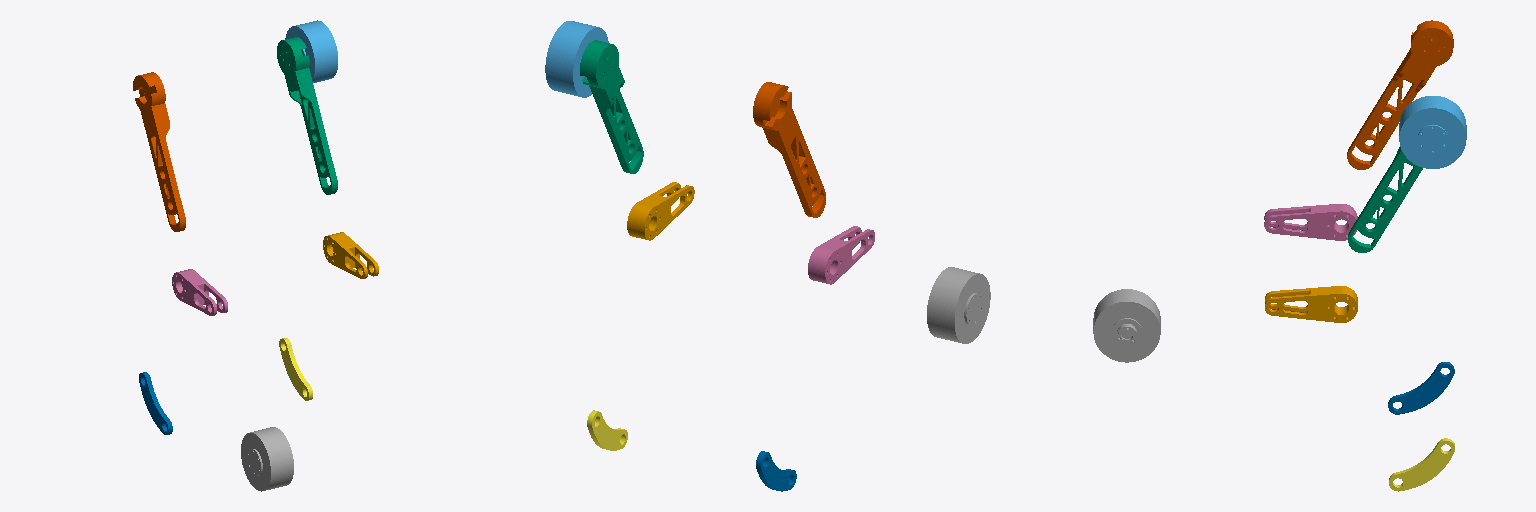
The robot description file, URDF, robot "robot":
<?xml version='1.0' encoding='utf-8'?>
<robot name="robot">
    <mujoco>
        <compiler fusestatic="false" discardvisual="false" coordinate="local"/>
    </mujoco>
    <link name="link1_left">
        <inertial>
            <origin xyz="-0.018166978005611494 0.009921954681198938 -0.007149621055701481" rpy="2.0293072715139053e-17 0.0 0.0" />
            <mass value="0.2530518137091047" />
            <inertia ixx="4.7092960291313796e-05" iyy="0.0001590563441833895" izz="0.0001312538770806334" ixy="-4.5976179750004954e-07" iyz="-2.2128909720007715e-07" ixz="-3.894611756705873e-05" />
        </inertial>
        <visual name="link1_left_visual">
            <origin xyz="-0.03799665238660035 0.016816099706863312 -0.019742583505363936" rpy="-1.3010609451868982 -0.004304181638839388 -1.5681871598450279" />
            <geometry>
                <mesh filename="meshes/link1_left.stl" scale="0.001 0.001 0.001" />
            </geometry>
        </visual>
        <collision name="link1_left_collision">
            <origin xyz="-0.03799665238660035 0.016816099706863312 -0.019742583505363936" rpy="-1.3010609451868982 -0.004304181638839388 -1.5681871598450279" />
            <geometry>
                <mesh filename="meshes/link1_left.stl" scale="0.001 0.001 0.001" />
            </geometry>
        </collision>
    </link>
    <link name="wheel_left">
        <inertial>
            <origin xyz="-3.5842304993884965e-05 -0.015710212283790864 6.155662402040462e-05" rpy="2.0293072715139053e-17 0.0 0.0" />
            <mass value="0.9552209288691303" />
            <inertia ixx="0.00035911198734573865" iyy="0.0005321469347699705" izz="0.00035911376545033624" ixy="3.342991071499493e-07" iyz="-6.067540478833786e-07" ixz="-2.073078692217901e-09" />
        </inertial>
        <visual name="wheel_left_visual">
            <origin xyz="-8.3490717625061e-05 -0.03199959955642795 0.0001377320956118222" rpy="-0.005646058401270238 -0.7038819930408806 0.001044882631630851" />
            <geometry>
                <mesh filename="meshes/wheel_left.stl" scale="0.001 0.001 0.001" />
            </geometry>
        </visual>
        <collision name="wheel_left_collision">
            <origin xyz="-8.3490717625061e-05 -0.03199959955642795 0.0001377320956118222" rpy="-0.005646058401270238 -0.7038819930408806 0.001044882631630851" />
            <geometry>
                <mesh filename="meshes/wheel_left.stl" scale="0.001 0.001 0.001" />
            </geometry>
        </collision>
    </link>
    <link name="link2_left">
        <inertial>
            <origin xyz="0.04156411800840451 -0.007919803008513426 -0.03523436842240086" rpy="2.0293072715139053e-17 0.0 0.0" />
            <mass value="0.4808903080599057" />
            <inertia ixx="0.0005813670109405013" iyy="0.001333985910925515" izz="0.0007806436908168075" ixy="5.115281541123732e-05" iyz="-4.3681165751808353e-05" ixz="0.0006058128581630687" />
        </inertial>
        <visual name="link2_left_visual">
            <origin xyz="0.022013728614496388 0.0019769643873805264 -0.01870151620916417" rpy="-2.274686183703241 -0.004304181638839166 -1.5681871598450277" />
            <geometry>
                <mesh filename="meshes/link2_left.stl" scale="0.001 0.001 0.001" />
            </geometry>
        </visual>
        <collision name="link2_left_collision">
            <origin xyz="0.022013728614496388 0.0019769643873805264 -0.01870151620916417" rpy="-2.274686183703241 -0.004304181638839166 -1.5681871598450277" />
            <geometry>
                <mesh filename="meshes/link2_left.stl" scale="0.001 0.001 0.001" />
            </geometry>
        </collision>
    </link>
    <link name="link3_left">
        <inertial>
            <origin xyz="-0.028929831568332693 0.002856949438744447 -0.015707674968183517" rpy="2.0293072715139053e-17 0.0 0.0" />
            <mass value="0.07190706335416745" />
            <inertia ixx="1.487289748382378e-05" iyy="3.745017673987366e-05" izz="2.3010227830165065e-05" ixy="-1.225043524880735e-07" iyz="-1.0070620777699231e-07" ixz="-1.4774876887563922e-05" />
        </inertial>
        <visual name="link3_left_visual">
            <origin xyz="-0.025868010232697847 0.005847703903597115 -0.01972056132874364" rpy="2.2218156118697014 -0.00430418163883961 -1.5681871598450277" />
            <geometry>
                <mesh filename="meshes/link3_left.stl" scale="0.001 0.001 0.001" />
            </geometry>
        </visual>
        <collision name="link3_left_collision">
            <origin xyz="-0.025868010232697847 0.005847703903597115 -0.01972056132874364" rpy="2.2218156118697014 -0.00430418163883961 -1.5681871598450277" />
            <geometry>
                <mesh filename="meshes/link3_left.stl" scale="0.001 0.001 0.001" />
            </geometry>
        </collision>
    </link>
    <link name="link3_right">
        <inertial>
            <origin xyz="-0.028914178443092808 0.003142983198542506 0.01568184630847984" rpy="2.0293072715139053e-17 0.0 0.0" />
            <mass value="0.07190706335416698" />
            <inertia ixx="1.4872897483824647e-05" iyy="3.745017673987453e-05" izz="2.3010227830165383e-05" ixy="1.225043524881846e-07" iyz="-1.0070620777656126e-07" ixz="1.477487688756381e-05" />
        </inertial>
        <visual name="link3_right_visual">
            <origin xyz="-0.02583670226853351 0.006152152732781158 0.019668907658946147" rpy="-2.221815611869705 -0.004304181638839166 -1.5734054937447661" />
            <geometry>
                <mesh filename="meshes/link3_right.stl" scale="0.001 0.001 0.001" />
            </geometry>
        </visual>
        <collision name="link3_right_collision">
            <origin xyz="-0.02583670226853351 0.006152152732781158 0.019668907658946147" rpy="-2.221815611869705 -0.004304181638839166 -1.5734054937447661" />
            <geometry>
                <mesh filename="meshes/link3_right.stl" scale="0.001 0.001 0.001" />
            </geometry>
        </collision>
    </link>
    <link name="link2_right">
        <inertial>
            <origin xyz="0.04152300875381114 -0.007832981928876387 0.03530217321363132" rpy="2.0293072715139053e-17 0.0 0.0" />
            <mass value="0.4808903080599056" />
            <inertia ixx="0.000581894147094239" iyy="0.0013341970106261723" izz="0.0007799054549624059" ixy="4.98634102224782e-05" iyz="4.2075539445148205e-05" ixz="-0.0006060238980722324" />
        </inertial>
        <visual name="link2_right_visual">
            <origin xyz="0.022024157654718515 0.002022983578999149 0.01868430083568917" rpy="2.274686183703243 -0.0043041816388385 -1.5734054937447655" />
            <geometry>
                <mesh filename="meshes/link2_right.stl" scale="0.001 0.001 0.001" />
            </geometry>
        </visual>
        <collision name="link2_right_collision">
            <origin xyz="0.022024157654718515 0.002022983578999149 0.01868430083568917" rpy="2.274686183703243 -0.0043041816388385 -1.5734054937447655" />
            <geometry>
                <mesh filename="meshes/link2_right.stl" scale="0.001 0.001 0.001" />
            </geometry>
        </collision>
    </link>
    <link name="link1_right">
        <inertial>
            <origin xyz="-0.018114786914125727 -0.010077793976110775 -0.007063534024669487" rpy="2.0293072715139053e-17 0.0 0.0" />
            <mass value="0.2530518137091047" />
            <inertia ixx="4.709296037909948e-05" iyy="0.00015905634400377797" izz="0.00013125387717246358" ixy="-4.597786192580124e-07" iyz="-2.212997640160324e-07" ixz="-3.894611746682164e-05" />
        </inertial>
        <visual name="link1_right_visual">
            <origin xyz="-0.0379079333463781 -0.017183468259516187 -0.01959623813188882" rpy="-1.840531708402895 0.00430418163883961 1.573405493744765" />
            <geometry>
                <mesh filename="meshes/link1_right.stl" scale="0.001 0.001 0.001" />
            </geometry>
        </visual>
        <collision name="link1_right_collision">
            <origin xyz="-0.0379079333463781 -0.017183468259516187 -0.01959623813188882" rpy="-1.840531708402895 0.00430418163883961 1.573405493744765" />
            <geometry>
                <mesh filename="meshes/link1_right.stl" scale="0.001 0.001 0.001" />
            </geometry>
        </collision>
    </link>
    <link name="wheel_right">
        <inertial>
            <origin xyz="4.482355501615132e-05 0.015710191616803027 -6.0650294060256014e-05" rpy="2.0293072715139053e-17 0.0 0.0" />
            <mass value="0.9552209288691303" />
            <inertia ixx="0.0003591126767838841" iyy="0.0005321460462703528" izz="0.00035911396451180494" ixy="5.386532777630331e-07" iyz="-5.860910146674934e-07" ixz="-1.0539742177975384e-09" />
        </inertial>
        <visual name="wheel_right_visual">
            <origin xyz="8.34967118459673e-05 0.031999598400864734 -0.00013773337880224724" rpy="0.004910832616104921 -0.5023207052999299 3.136619098362705" />
            <geometry>
                <mesh filename="meshes/wheel_right.stl" scale="0.001 0.001 0.001" />
            </geometry>
        </visual>
        <collision name="wheel_right_collision">
            <origin xyz="8.34967118459673e-05 0.031999598400864734 -0.00013773337880224724" rpy="0.004910832616104921 -0.5023207052999299 3.136619098362705" />
            <geometry>
                <mesh filename="meshes/wheel_right.stl" scale="0.001 0.001 0.001" />
            </geometry>
        </collision>
    </link>
    <link name="base_link">
        <inertial>
            <origin xyz="-0.0005926311409948765 0.004346570833989687 0.005442047538105136" rpy="1.5707963267948966 0.0 0.0" />
            <mass value="6.714653948788012" />
            <inertia ixx="0.01298130240354172" iyy="0.020395237426541035" izz="0.0265293151499411" ixy="-2.1739871986128482e-05" iyz="0.0004309073120633129" ixz="3.2819258244552775e-05" />
        </inertial>
        <visual name="base_link_visual">
            <origin xyz="0.0 0.0 0.0" rpy="1.5707963267948966 0.0 0.0" />
            <geometry>
                <mesh filename="meshes/base_link.stl" scale="0.001 0.001 0.001" />
            </geometry>
        </visual>
        <collision name="base_link_collision">
            <origin xyz="0.0 0.0 0.0" rpy="1.5707963267948966 0.0 0.0" />
            <geometry>
                <mesh filename="meshes/base_link.stl" scale="0.001 0.001 0.001" />
            </geometry>
        </collision>
    </link>
    <joint name="base_link_旋转-1" type="revolute">
        <origin xyz="-0.09400000200669573 0.011523592215170648 0.005415741165141359" rpy="0.004283460434355124 0.00794719707671776 -1.5734055519724581" />
        <parent link="base_link" />
        <child link="link1_right" />
        <axis xyz="0.002609 -0.9999869999999998 0.004304000000000139" />
        <limit lower="0.261799" upper="1.658063" effort="1000000" velocity="1000000" />
    </joint>
    <joint name="base_link_旋转-2" type="revolute">
        <origin xyz="0.09399999931776205 0.011523583896583905 0.005415744754583152" rpy="0.004283460434354236 0.007947197076717538 -1.5734055519724581" />
        <parent link="base_link" />
        <child link="link1_left" />
        <axis xyz="0.002609 -0.9999869999999998 0.004304000000000125" />
        <limit lower="0.261799" upper="1.658063" effort="1000000" velocity="1000000" />
    </joint>
    <joint name="base_link_旋转-3" type="continuous">
        <origin xyz="-0.09399999505395025 0.05594521558289801 0.04326729650344552" rpy="-3.1373091931554526 0.007947197076717316 -1.573405551972459" />
        <parent link="base_link" />
        <child link="link3_right" />
        <axis xyz="0.002609 0.9999869999999998 -0.004304000000000168" />
    </joint>
    <joint name="base_link_旋转-4" type="continuous">
        <origin xyz="0.09399999629672562 0.05594521729039382 0.04326730012952533" rpy="0.004283460434348907 0.00794719707671776 -1.5734055519724581" />
        <parent link="base_link" />
        <child link="link3_left" />
        <axis xyz="0.002609 -0.9999869999999998 0.004303999999999985" />
    </joint>
    <joint name="link1_right_旋转-5" type="continuous">
        <origin xyz="-0.06746535000000002 -0.015289760000000001 -0.026379890000000027" rpy="3.141592653589793 0.0 0.0" />
        <parent link="link1_right" />
        <child link="link2_right" />
        <axis xyz="-0.002609 -0.999987 0.0043040000000000005" />
    </joint>
    <joint name="link1_left_旋转-6" type="continuous">
        <origin xyz="-0.06754364000000002 0.01470986 -0.026509020000000022" rpy="2.0293072715139053e-17 0.0 0.0" />
        <parent link="link1_left" />
        <child link="link2_left" />
        <axis xyz="-0.002609 0.999987 -0.004304" />
    </joint>
    <joint name="link2_right_旋转-12" type="continuous">
        <origin xyz="0.07559893 7.8990000000001e-05 0.06417946999999999" rpy="2.0293072715139053e-17 0.0 0.0" />
        <parent link="link2_right" />
        <child link="wheel_right" />
        <axis xyz="-0.0026089999999999447 -0.999987 0.004304" />
    </joint>
    <joint name="link2_left_旋转-13" type="continuous">
        <origin xyz="0.07559894 -7.899999999999352e-05 -0.06417947" rpy="-3.1415926535897927 0.0 0.0" />
        <parent link="link2_left" />
        <child link="wheel_left" />
        <axis xyz="-0.0026090000000001112 -0.999987 0.004304" />
    </joint>
</robot>

--- Facts derived from the render (not from the file) ---
The picture shows the robot from 3 angles, left to right: view 1: azimuth 30°, elevation 25°; view 2: azimuth 150°, elevation 25°; view 3: azimuth 270°, elevation 25°; orthographic projection.
Robot: robot — 9 links, 8 joints (2 revolute, 6 continuous); root link base_link; default pose: joints at zero except 2 at the middle of their limits (base_link_旋转-1 = 0.9599, base_link_旋转-2 = 0.9599).
Links seen in each view (by area): view 1: link2_left, link2_right, wheel_right, wheel_left, link1_left, link1_right, link3_right, link3_left; view 2: link2_right, link2_left, wheel_right, wheel_left, link1_right, link1_left, link3_left, link3_right; view 3: link2_right, wheel_right, wheel_left, link1_left, link1_right, link2_left, link3_right, link3_left.
Link boxes in pixels (x1,y1,x2,y2): link2_left: (277, 37, 337, 194); link2_right: (133, 72, 185, 231); wheel_right: (241, 427, 293, 491); wheel_left: (285, 20, 337, 82); link1_left: (323, 232, 378, 278); link1_right: (172, 269, 227, 315); link3_right: (139, 372, 172, 434); link3_left: (279, 338, 312, 400); link2_right: (753, 82, 825, 217); link2_left: (580, 40, 643, 173); wheel_right: (927, 267, 990, 343); wheel_left: (545, 21, 608, 97); link1_right: (808, 226, 874, 284); link1_left: (627, 182, 694, 240); link3_left: (587, 410, 627, 450); link3_right: (756, 451, 796, 491); link2_right: (1347, 20, 1453, 169); wheel_right: (1093, 289, 1160, 362); wheel_left: (1399, 96, 1466, 168); link1_left: (1265, 286, 1357, 322); link1_right: (1264, 204, 1357, 240); link2_left: (1348, 147, 1422, 252); link3_right: (1388, 362, 1454, 414); link3_left: (1389, 438, 1454, 491).
Size in the robot's own frame: 0.287 by 0.3995 by 0.472 metres.
Meshes: 9 distinct files referenced, 8 mesh visuals loaded (8 binary STL); not drawn: 1 (reference not matched to a file when rendering).
